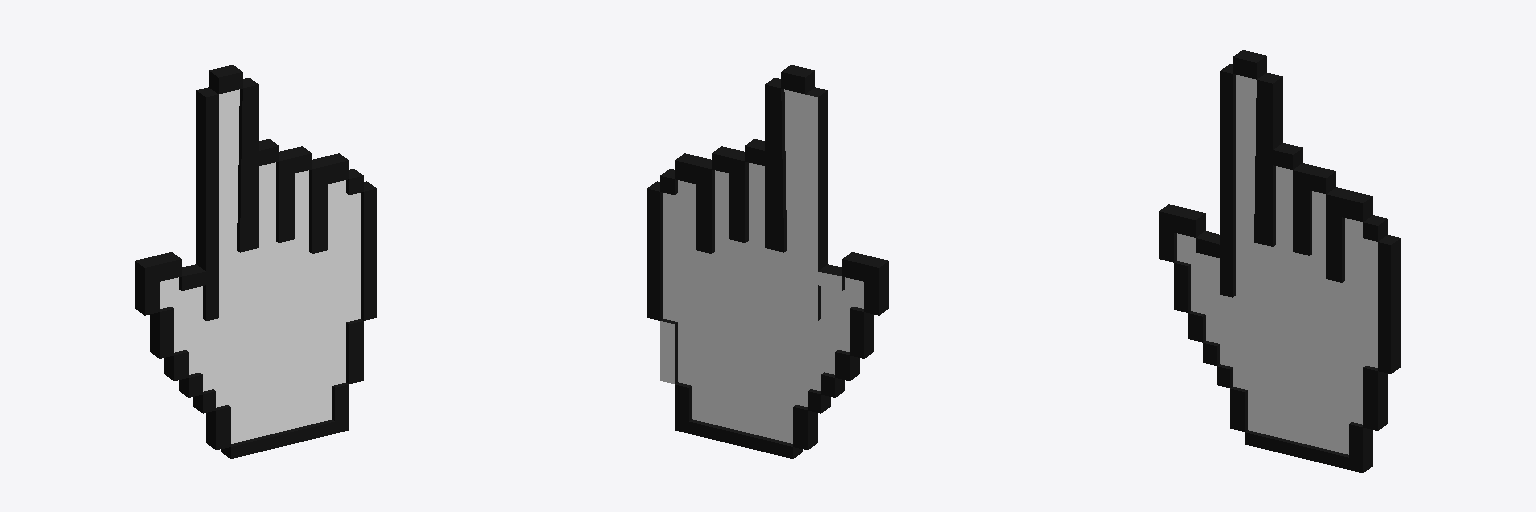
Rendered from hand.obj.
The picture shows the model from 3 angles: view 1: azimuth 30°, elevation 25°; view 2: azimuth 150°, elevation 25°; view 3: azimuth 330°, elevation 25°; orthographic projection.
Parts seen in each view (by area): view 1: Mesh2 cuerpo1 Group1 Model, Mesh1 borde1 Group1 Model; view 2: Mesh2 cuerpo1 Group1 Model, Mesh1 borde1 Group1 Model, Mesh3 Model, Mesh4 Model, Mesh6 Model; view 3: Mesh2 cuerpo1 Group1 Model, Mesh1 borde1 Group1 Model.
Part boxes in pixels (bbox=[...]): Mesh2 cuerpo1 Group1 Model: bbox=[160, 89, 360, 443]; Mesh1 borde1 Group1 Model: bbox=[135, 65, 376, 458]; Mesh2 cuerpo1 Group1 Model: bbox=[663, 89, 863, 443]; Mesh1 borde1 Group1 Model: bbox=[647, 65, 888, 458]; Mesh3 Model: bbox=[675, 161, 711, 253]; Mesh4 Model: bbox=[712, 154, 744, 242]; Mesh6 Model: bbox=[850, 309, 863, 358]; Mesh2 cuerpo1 Group1 Model: bbox=[1177, 75, 1377, 454]; Mesh1 borde1 Group1 Model: bbox=[1159, 50, 1400, 472].
Bounding box in the file's own units: 0.6894 × 1.09 × 0.0509.